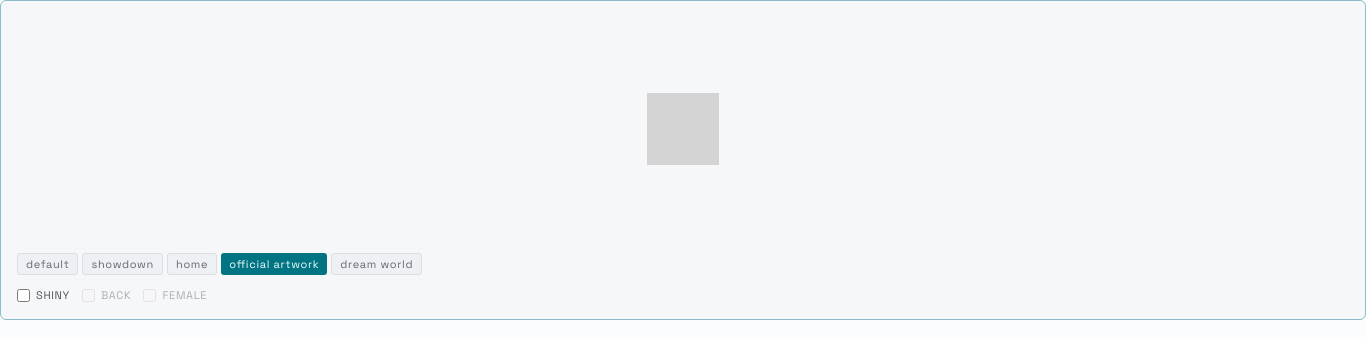
Test: SpriteViewer › disables the facets the current set does not publish
Expected: the checkbox labelled "shiny" is enabled, x1=17 y1=288 x2=30 y2=302
Click the radio button labelled "default" at (48, 264), box x1=17 y1=253 x2=78 y2=275
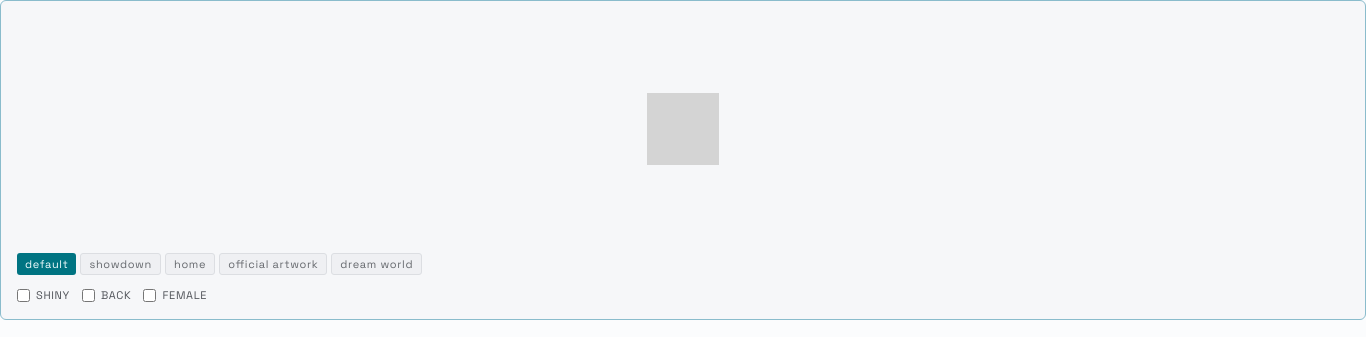
Expected: the checkbox labelled "back" is enabled, x1=82 y1=288 x2=95 y2=302
